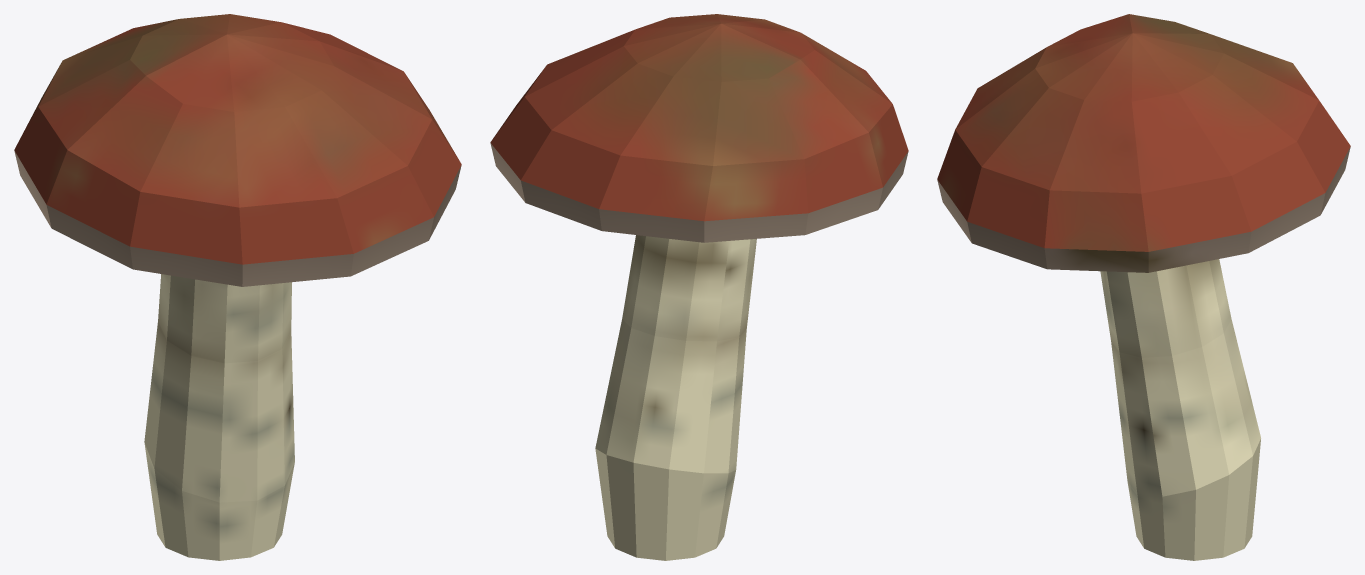
File: mushroom.glb
3 renders of one model, left to right at view 1: azimuth 30°, elevation 25°; view 2: azimuth 150°, elevation 25°; view 3: azimuth 270°, elevation 25°, orthographic. The views are drawn at different scales.
Visible parts, largest first — view 1: Cylinder.001; view 2: Cylinder.001; view 3: Cylinder.001.
Part boxes in pixels (x1,y1,x2,y2): Cylinder.001: [14, 14, 461, 560]; Cylinder.001: [490, 14, 908, 560]; Cylinder.001: [937, 14, 1350, 560].
Bounding box in the file's own units: 0.7354 × 0.9613 × 0.7332.
1 material, 1 textured.
